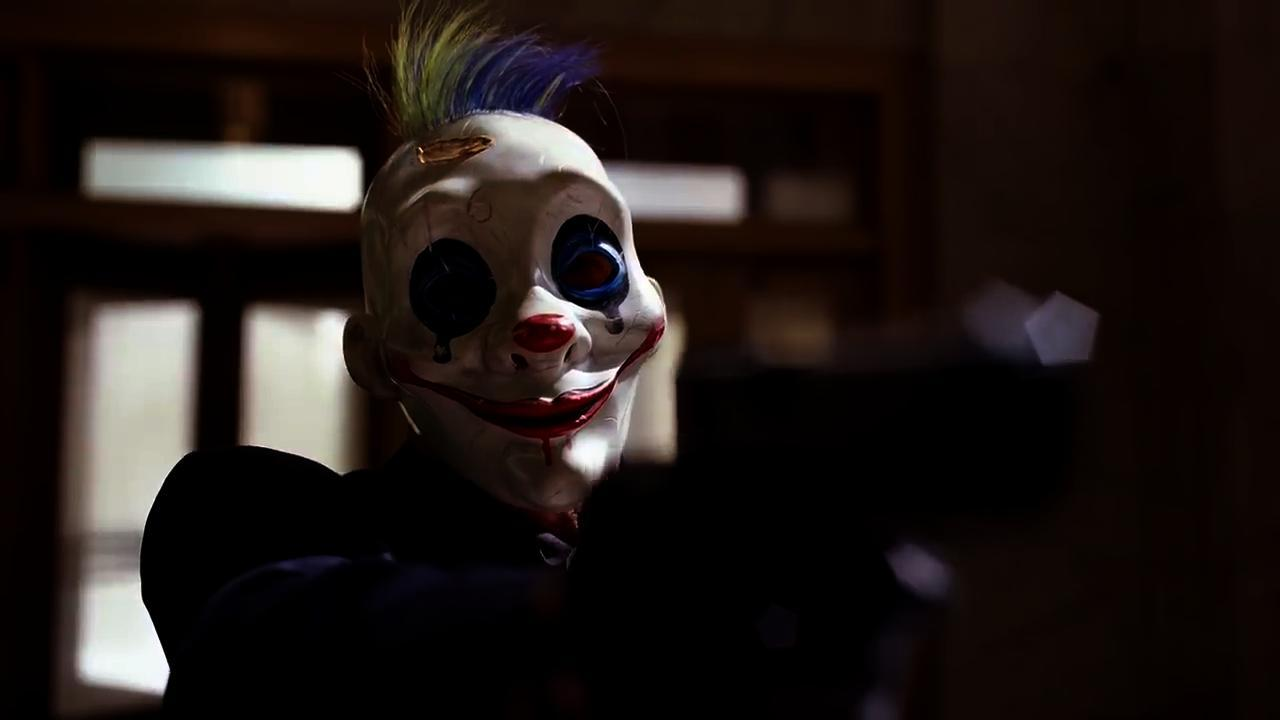gun: (674, 289, 1094, 713)
